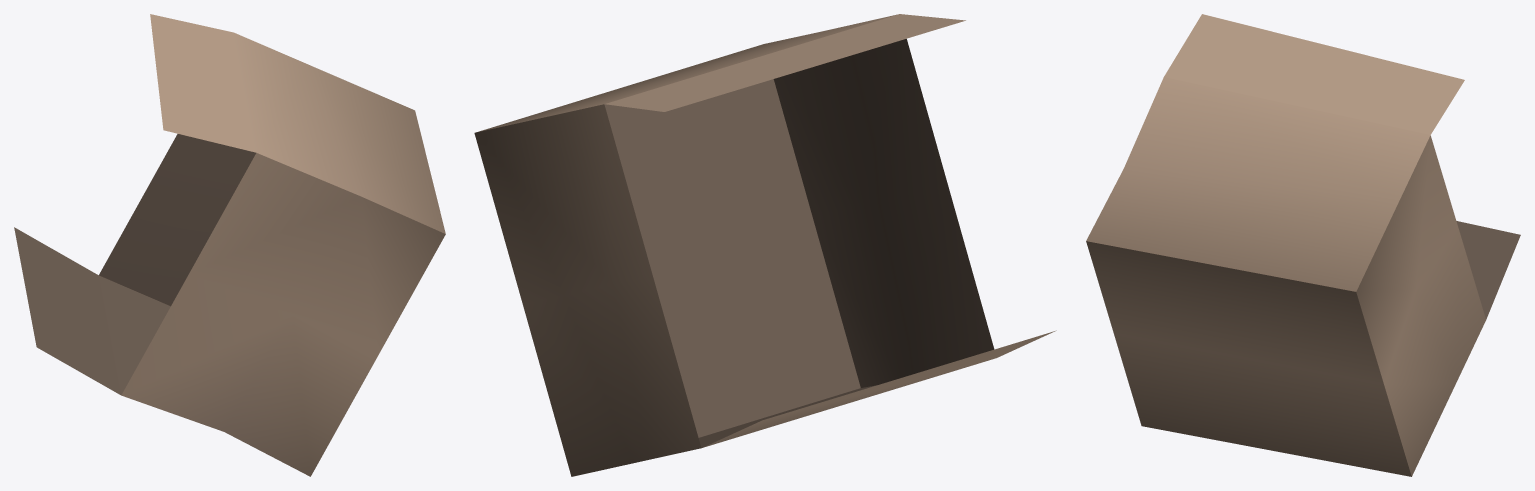
File: K_GOMI07.glb
3 views of the same model, side by side, from view 1: azimuth 30°, elevation 25°; view 2: azimuth 150°, elevation 25°; view 3: azimuth 270°, elevation 25° (orthographic). The views are drawn at different scales.
Visible parts, largest first — view 1: FRAME_ROOT; view 2: FRAME_ROOT; view 3: FRAME_ROOT.
Part boxes in pixels (x1,y1,x2,y2): FRAME_ROOT: [14, 14, 445, 476]; FRAME_ROOT: [474, 14, 1056, 476]; FRAME_ROOT: [1086, 14, 1520, 476].
Bounding box in the file's own units: 2.21 × 1.73 × 1.93.
Materials: 1 (1 with a texture image).
